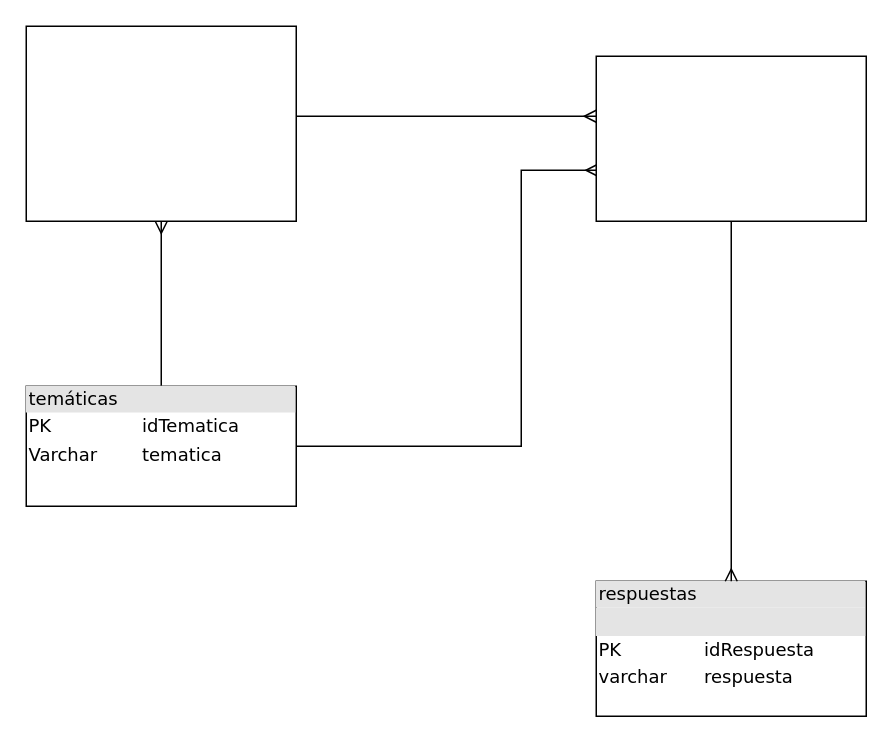
Some shapes in this 893 by 755 pixel diagram are drawn without their labels. The shapes that lost their labels are listed below. From the top down, each one's centre as x and y in pixels, then its label:
At [160,123]: "usuarios PK idUsuario Varchar nombre FK1 idPregunta".
At [730,138]: "preguntas PK idPreguntas varchar pregunta FK1 FK2 idRespuesta idTematica".
